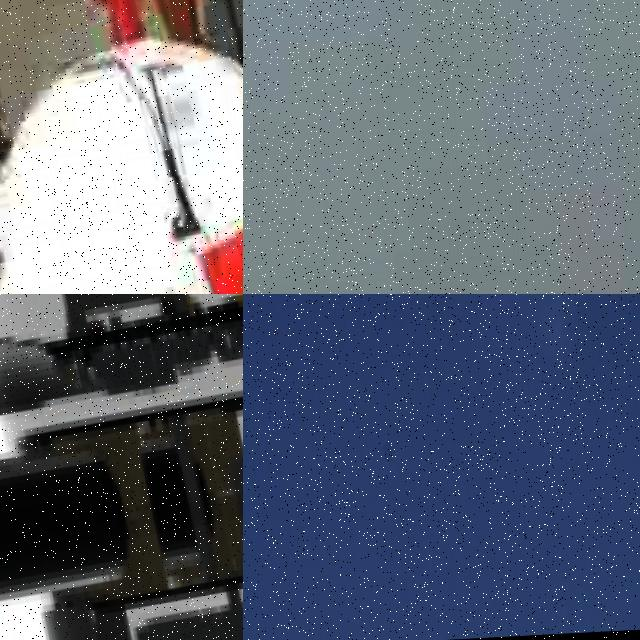0: (0, 0, 243, 294)
drone: (0, 294, 243, 640)
